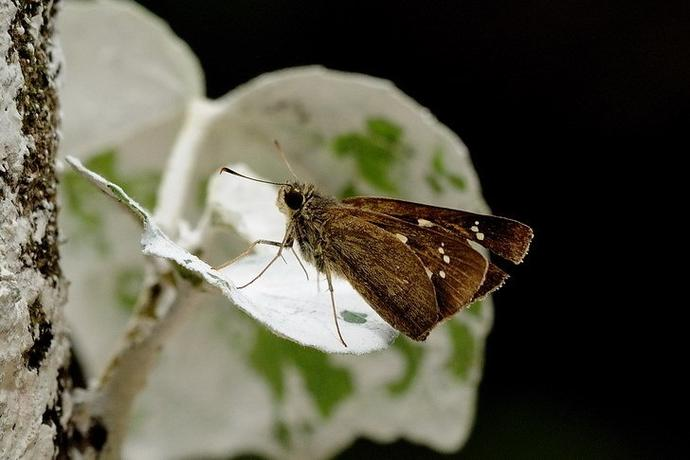Hesperiidae: (218, 137, 537, 351)
